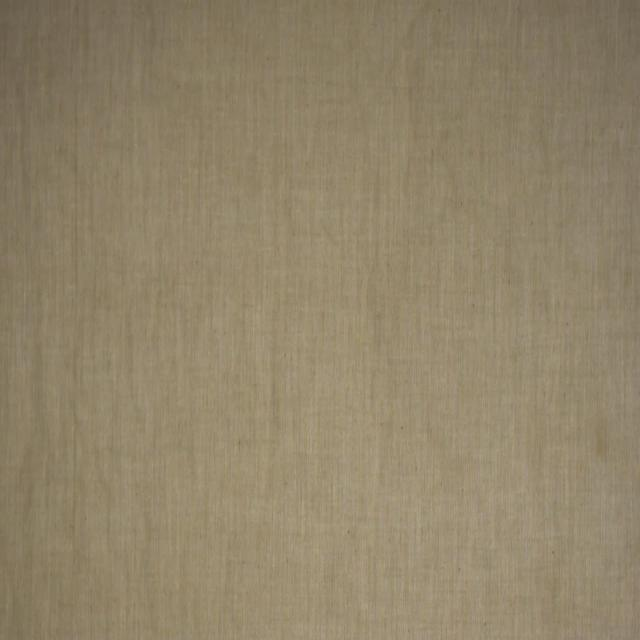dirty: (594, 416, 608, 461)
